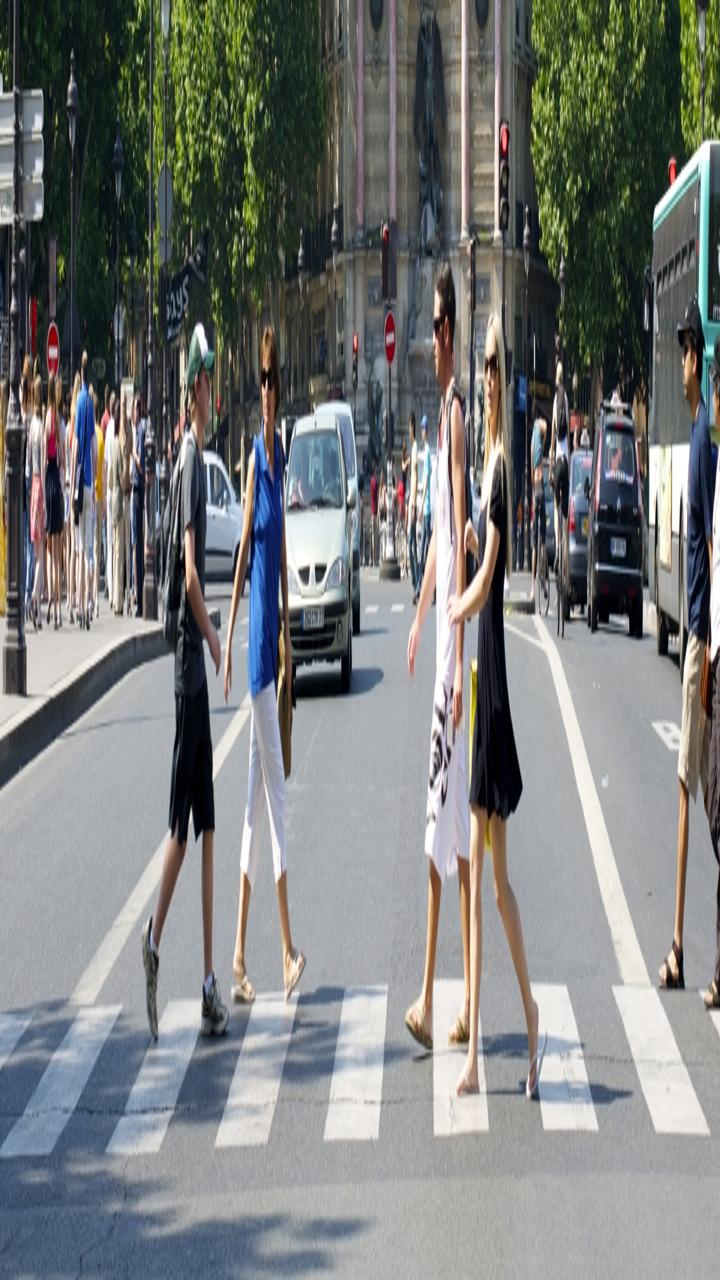pedestrian: (451, 331, 552, 1133), (619, 258, 720, 1060), (126, 312, 228, 1053), (390, 265, 467, 1052)
vehicle: (280, 408, 367, 696)
